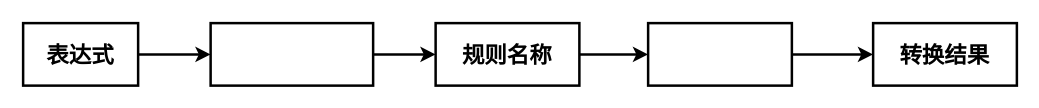
The diagram is 1039 pixels wide and 108 high, and some of its shapes have lost their labels. Here are the shapes that lost their labels. From the top down, the centre of each, then its label:
At point (291, 53): "匹配器检测".
At point (719, 53): "规则函数".
